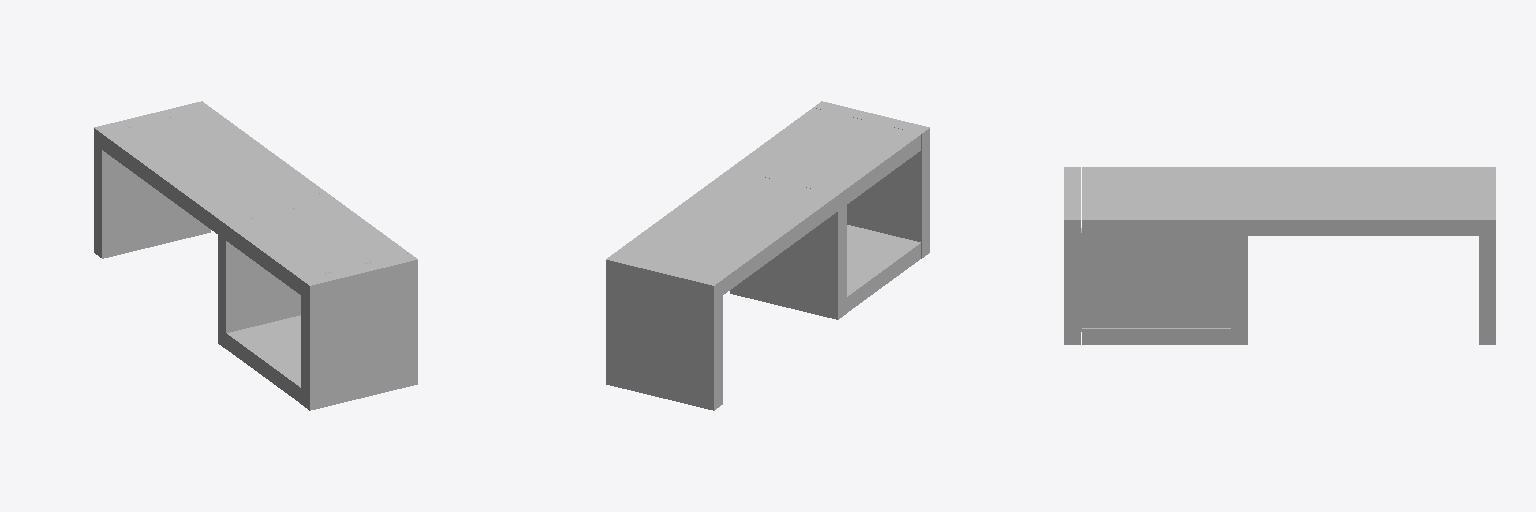
Rendered from desk.obj.
The picture shows the model from 3 angles: view 1: azimuth 30°, elevation 25°; view 2: azimuth 150°, elevation 25°; view 3: azimuth 270°, elevation 25°; orthographic projection.
Visible parts, largest first — view 1: Cube; view 2: Cube; view 3: Cube.
Part boxes in pixels (bbox=[...]): Cube: bbox=[94, 101, 417, 410]; Cube: bbox=[606, 101, 929, 410]; Cube: bbox=[1064, 167, 1495, 344].
Bounding box in the file's own units: 1.74 × 1.92 × 6.02.